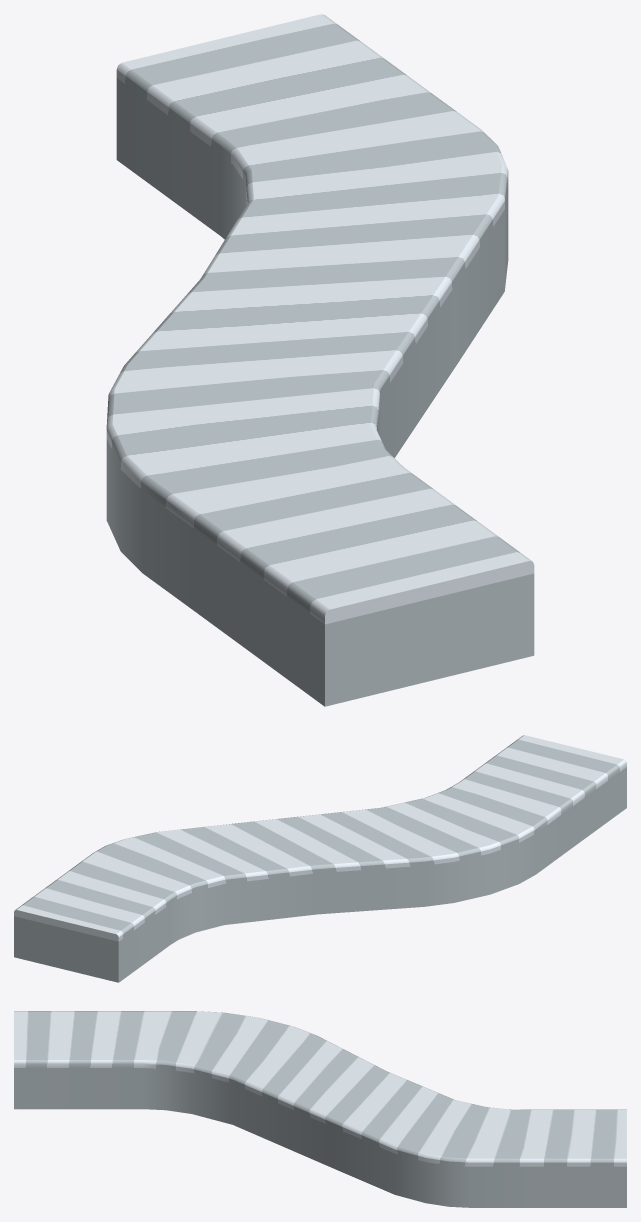
File: Road turn R.fbx
3 views of the same model, one above another, from view 1: azimuth 30°, elevation 25°; view 2: azimuth 150°, elevation 25°; view 3: azimuth 270°, elevation 25° (orthographic). The views are drawn at different scales.
Parts seen in each view (by area): view 1: Road_turn_R_Cap, Road_turn_R; view 2: Road_turn_R_Cap, Road_turn_R; view 3: Road_turn_R_Cap, Road_turn_R.
Part boxes in pixels (x1,y1,x2,y2): Road_turn_R_Cap: (106, 14, 534, 624); Road_turn_R: (106, 78, 534, 706); Road_turn_R_Cap: (14, 735, 626, 941); Road_turn_R: (14, 767, 626, 982); Road_turn_R_Cap: (14, 1011, 626, 1166); Road_turn_R: (14, 1068, 626, 1207).
Size of the model in its own units: 2342 by 350 by 4048.
